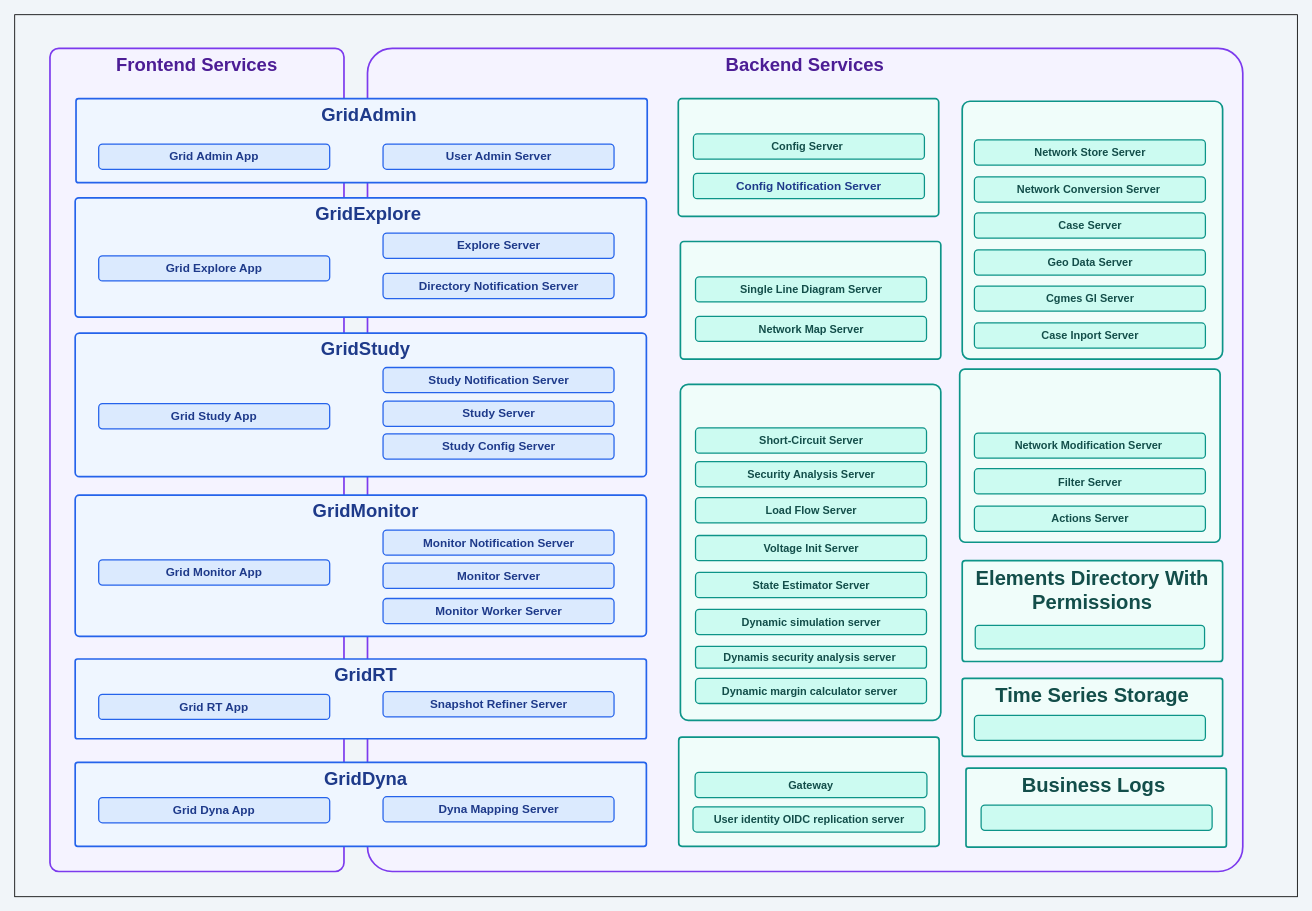
Some shapes in this 1312 by 911 pixel diagram are drawn without their labels. The box of each missing label's shape, as (x1, y1, x2, y2) in pixels:
Directory Server: (974, 624, 1205, 649)
Network Computation: (679, 383, 941, 721)
Network Filtering And Modification: (958, 368, 1221, 543)
Network Storage: (961, 100, 1223, 360)
Report Server: (980, 804, 1212, 831)
Technical Services: (677, 736, 940, 847)
Timeserie Server: (973, 714, 1206, 741)
UI Configuration: (677, 97, 939, 217)
UI Preparation: (679, 240, 941, 360)
